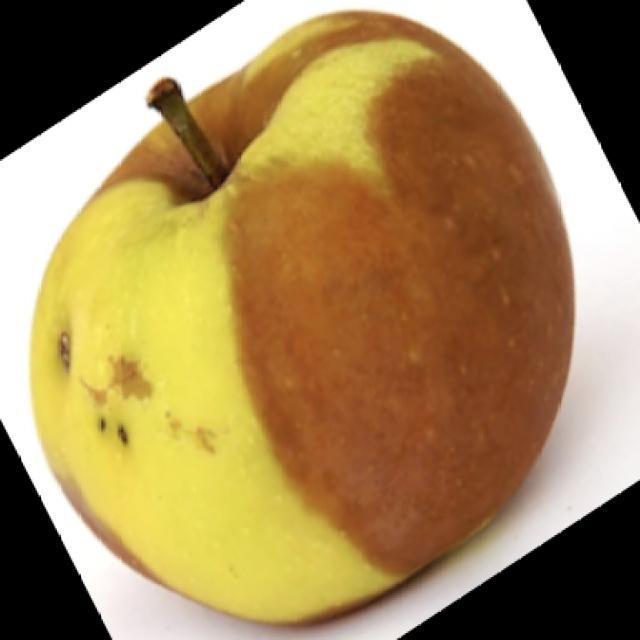Rotten: (50, 20, 535, 602)
